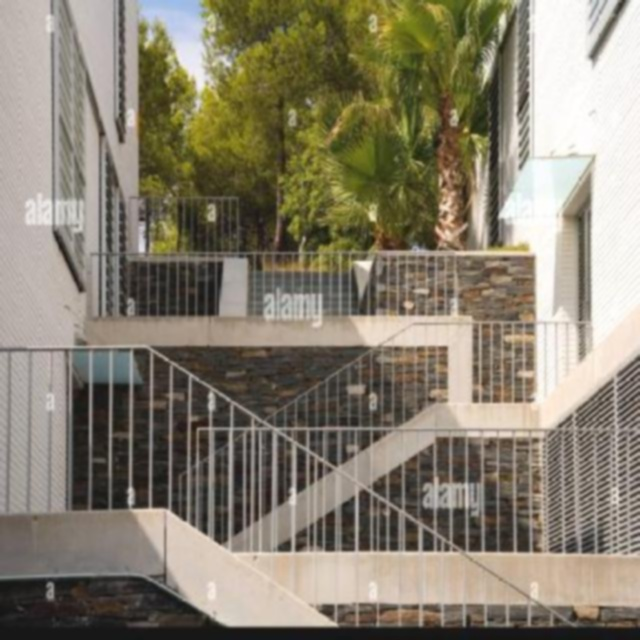stair: (98, 298, 500, 588)
